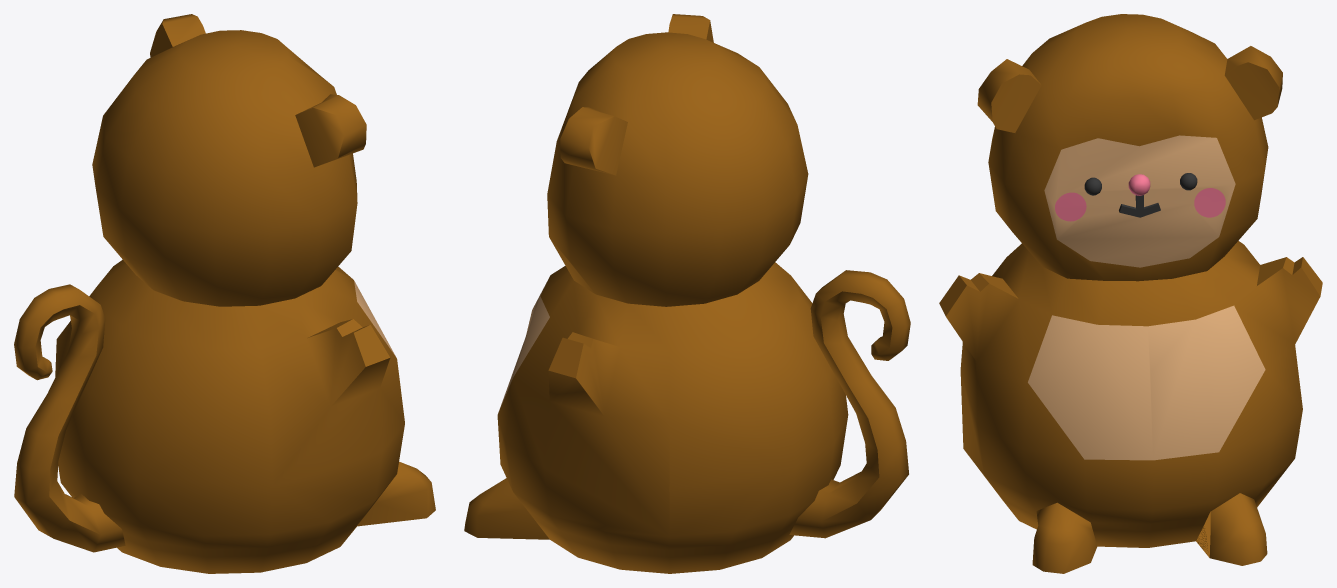
Rendered from monkeySmooth.fbx.
3 renders of one model, left to right at view 1: azimuth 30°, elevation 25°; view 2: azimuth 150°, elevation 25°; view 3: azimuth 270°, elevation 25°, orthographic.
Visible parts, largest first — view 1: Monkey; view 2: Monkey; view 3: Monkey.
Part boxes in pixels (x1,y1,x2,y2): Monkey: (14, 14, 435, 573); Monkey: (464, 14, 910, 573); Monkey: (939, 14, 1322, 573).
Bounding box in the file's own units: 318 × 365 × 272.
